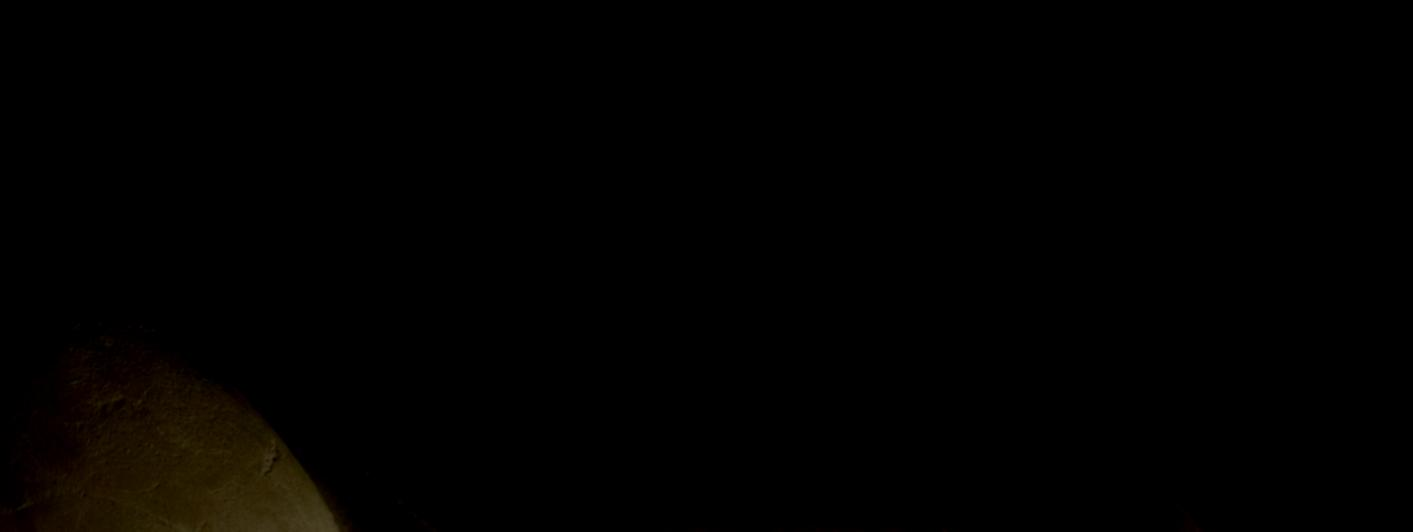the_female_peasent: (0, 0, 740, 532)
